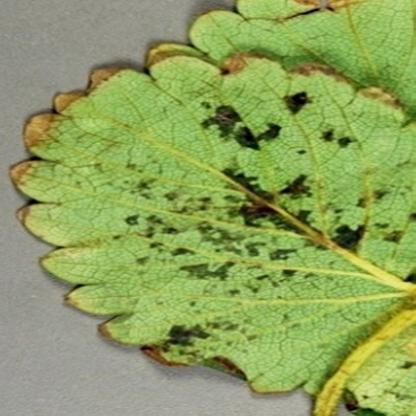Strawberry_Angular_LeafSpot: (8, 44, 416, 413)
